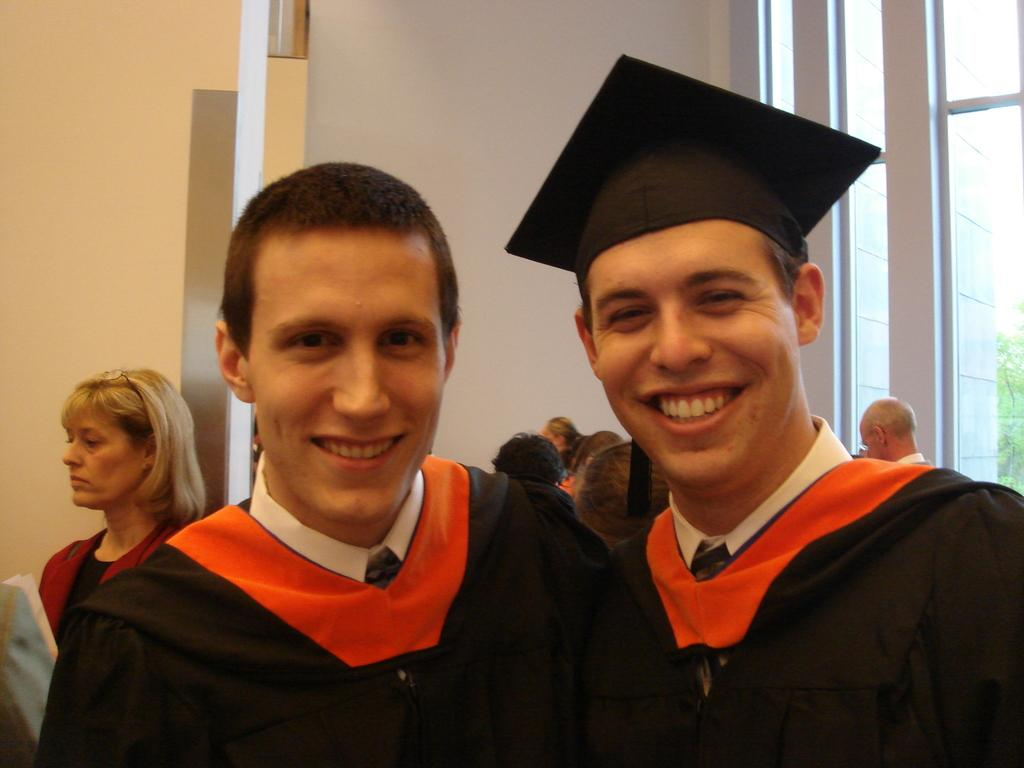Hat: (500, 54, 884, 291)
